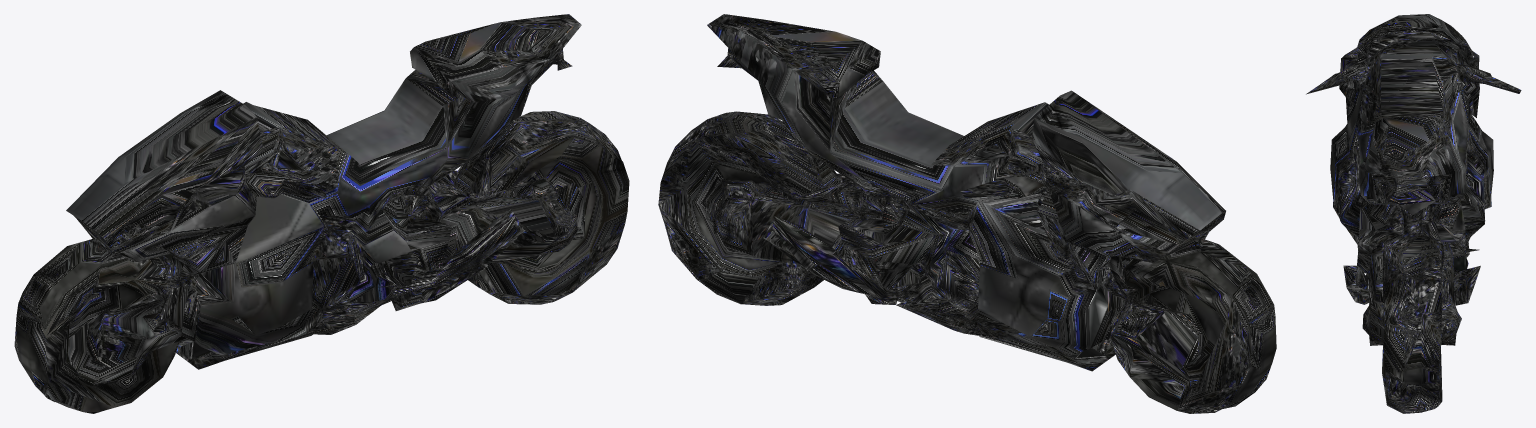
The model's file is moto.m.glb.
3 renders of one model, left to right at view 1: azimuth 30°, elevation 25°; view 2: azimuth 150°, elevation 25°; view 3: azimuth 270°, elevation 25°, orthographic. The views are drawn at different scales.
Visible parts, largest first — view 1: Object_4; view 2: Object_4; view 3: Object_4.
Part boxes in pixels (<box>): Object_4: <box>14,14,629,413</box>; Object_4: <box>658,14,1276,413</box>; Object_4: <box>1306,14,1521,413</box>.
Size of the model in its own units: 1.99 by 0.88 by 0.6809.
1 material, 1 textured.
